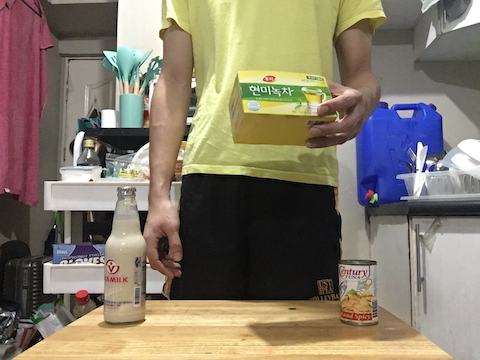bottle: (100, 183, 153, 327)
box: (223, 64, 339, 152)
can: (336, 258, 380, 329)
grab: (296, 79, 365, 160)
